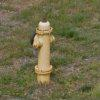Hydrant: (18, 13, 57, 85)
